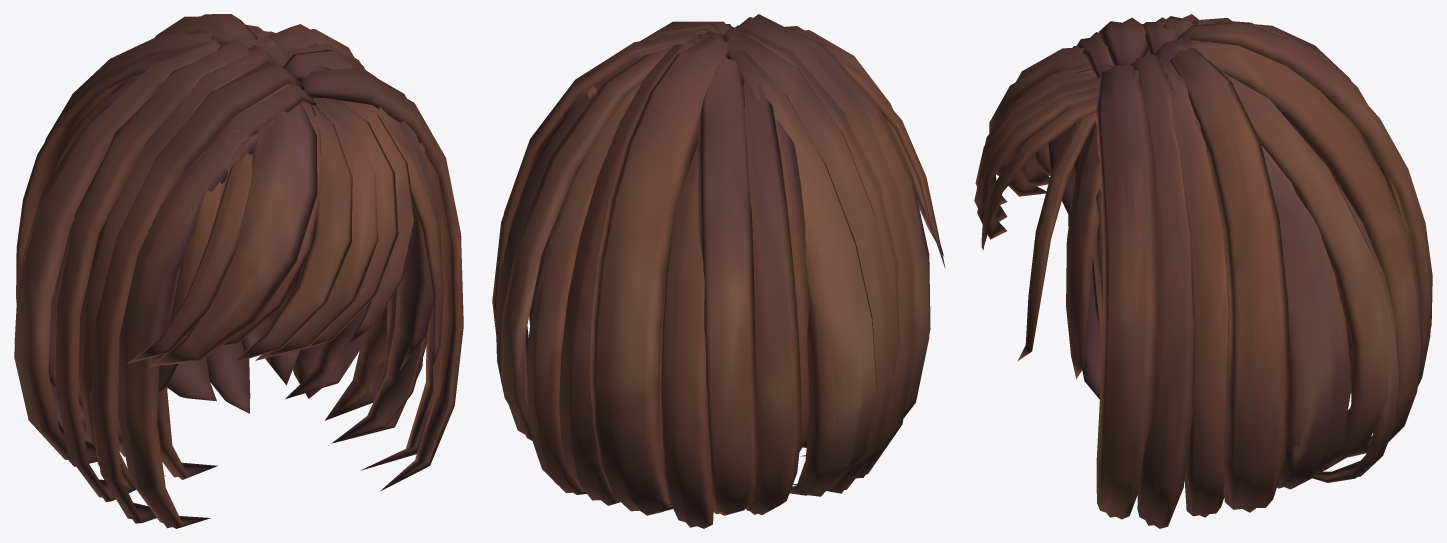
File: modular_bob.glb
3 views of the same model, side by side, from view 1: azimuth 30°, elevation 25°; view 2: azimuth 150°, elevation 25°; view 3: azimuth 270°, elevation 25° (orthographic). The views are drawn at different scales.
Visible parts, largest first — view 1: bobright, bobfront, bobleft, bobback; view 2: bobback, bobright, bobleft, bobfront; view 3: bobleft, bobback, bobfront, bobright.
Part boxes in pixels (x1=…): bobright: x1=14, y1=38, x2=315, y2=528; bobfront: x1=127, y1=66, x2=444, y2=392; bobleft: x1=269, y1=24, x2=463, y2=491; bobback: x1=16, y1=14, x2=323, y2=443; bobback: x1=496, y1=31, x2=809, y2=528; bobright: x1=722, y1=14, x2=930, y2=496; bobleft: x1=492, y1=21, x2=731, y2=380; bobfront: x1=785, y1=26, x2=945, y2=267; bobleft: x1=1093, y1=47, x2=1289, y2=528; bobback: x1=1145, y1=20, x2=1432, y2=489; bobfront: x1=974, y1=46, x2=1138, y2=378; bobright: x1=1068, y1=14, x2=1242, y2=399.
Bounding box in the file's own units: 0.2456 × 0.2745 × 0.2601.
1 material, 1 textured.
